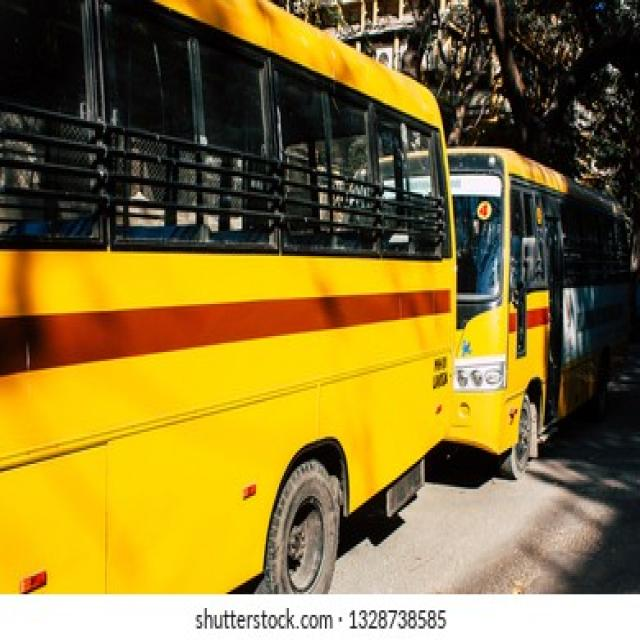bus: (0, 0, 455, 593), (447, 148, 630, 476)
